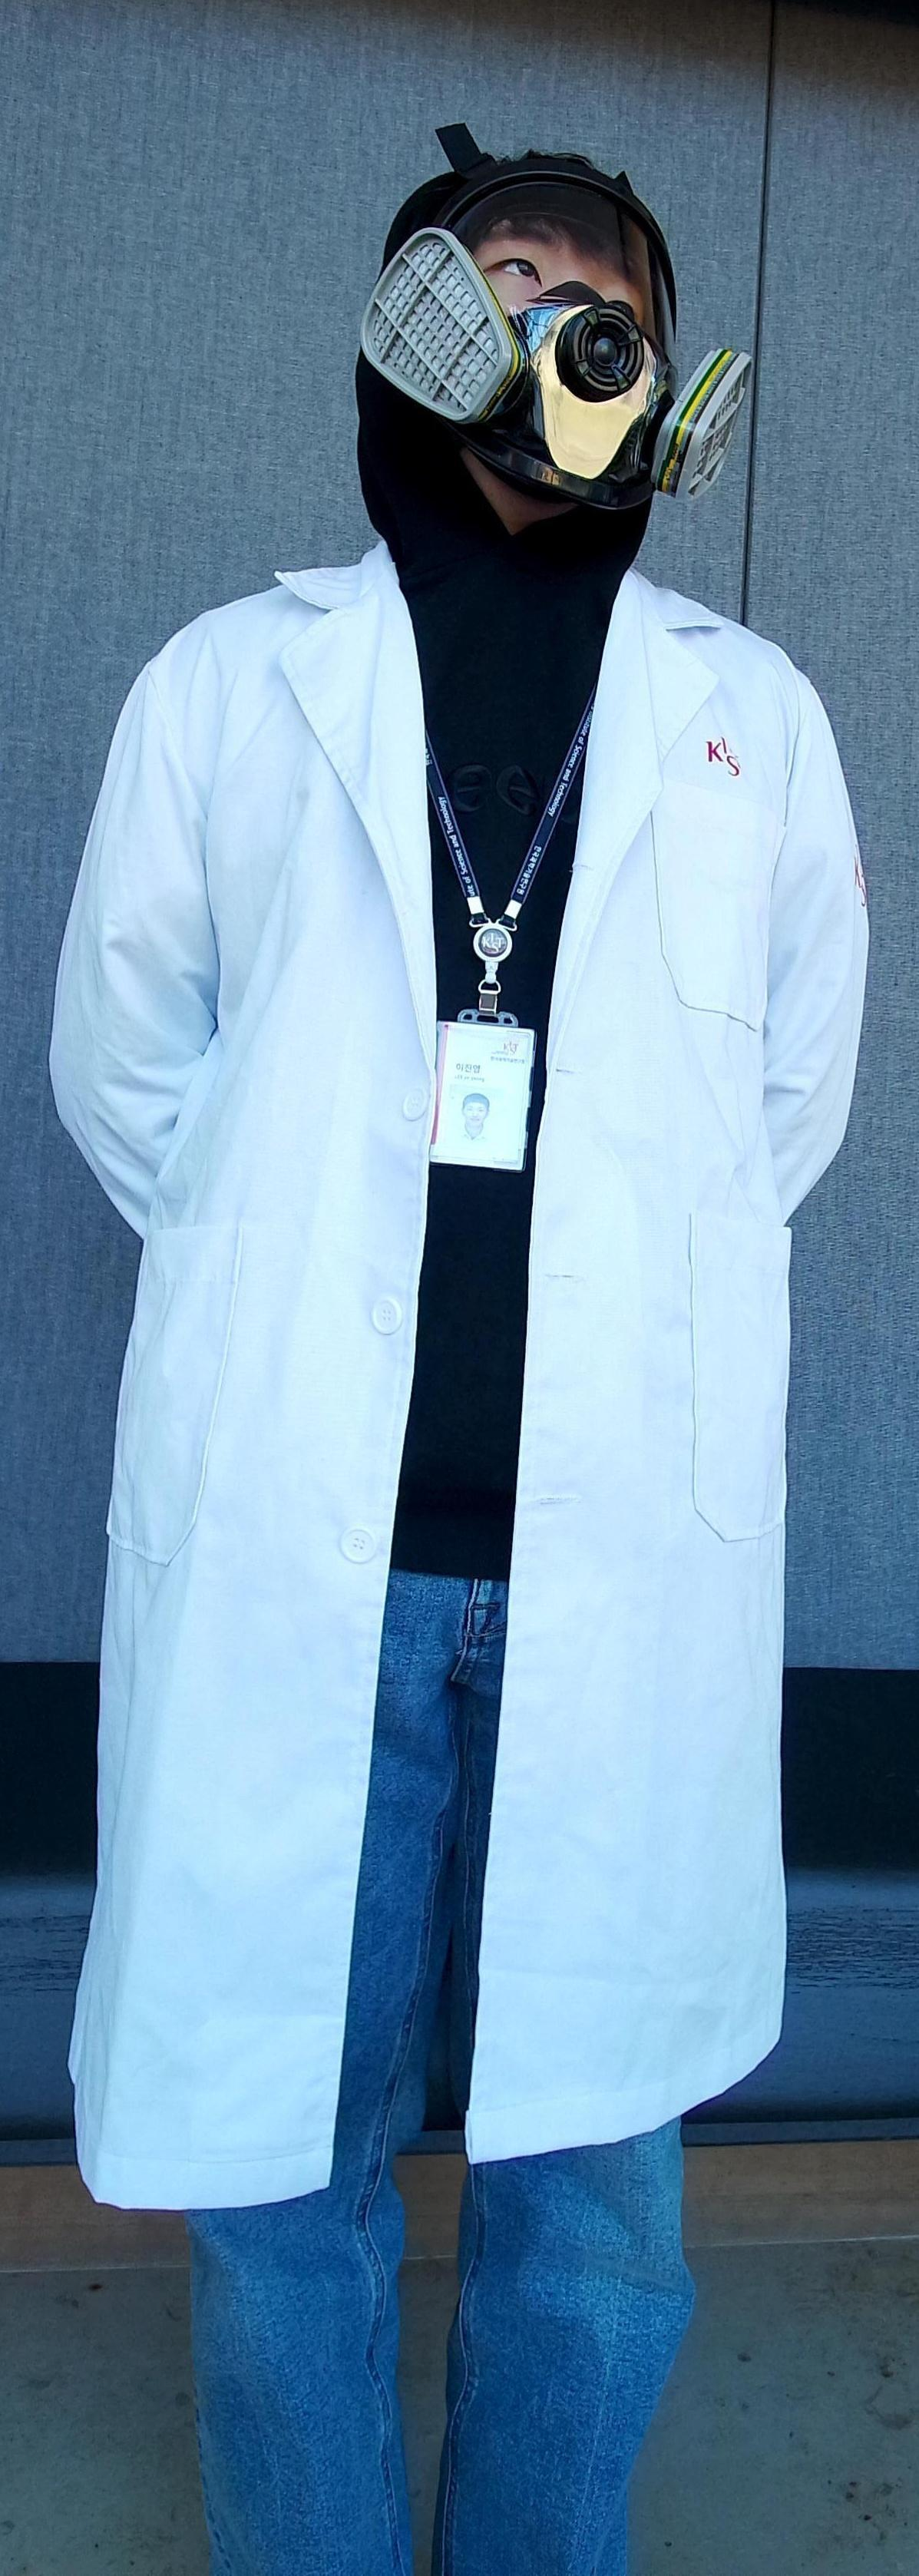lab_coat: (33, 573, 881, 2139)
